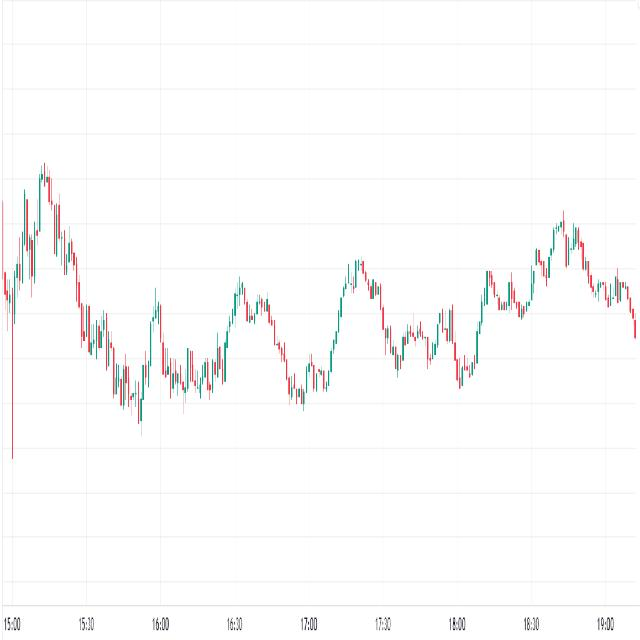Channel-down: (20, 138, 155, 471)
Head-Shoulders: (8, 144, 92, 371), (329, 241, 393, 381), (527, 198, 594, 315)
Rounding-Bottom: (157, 301, 238, 411)
